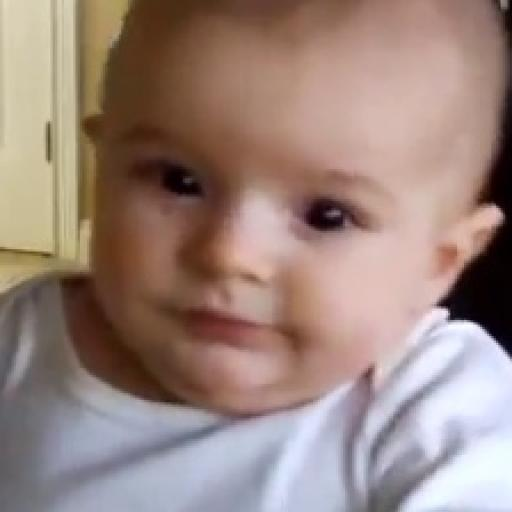Autism: (124, 4, 483, 486)
